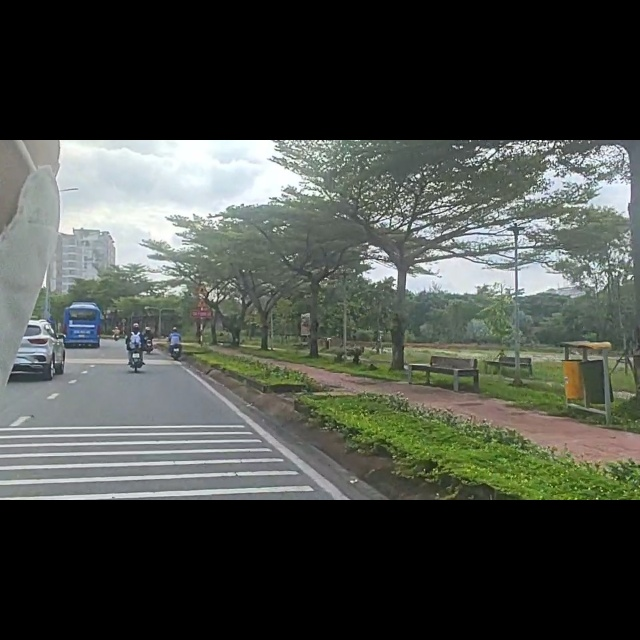bien_nguy_hiem: (196, 276, 210, 300)
